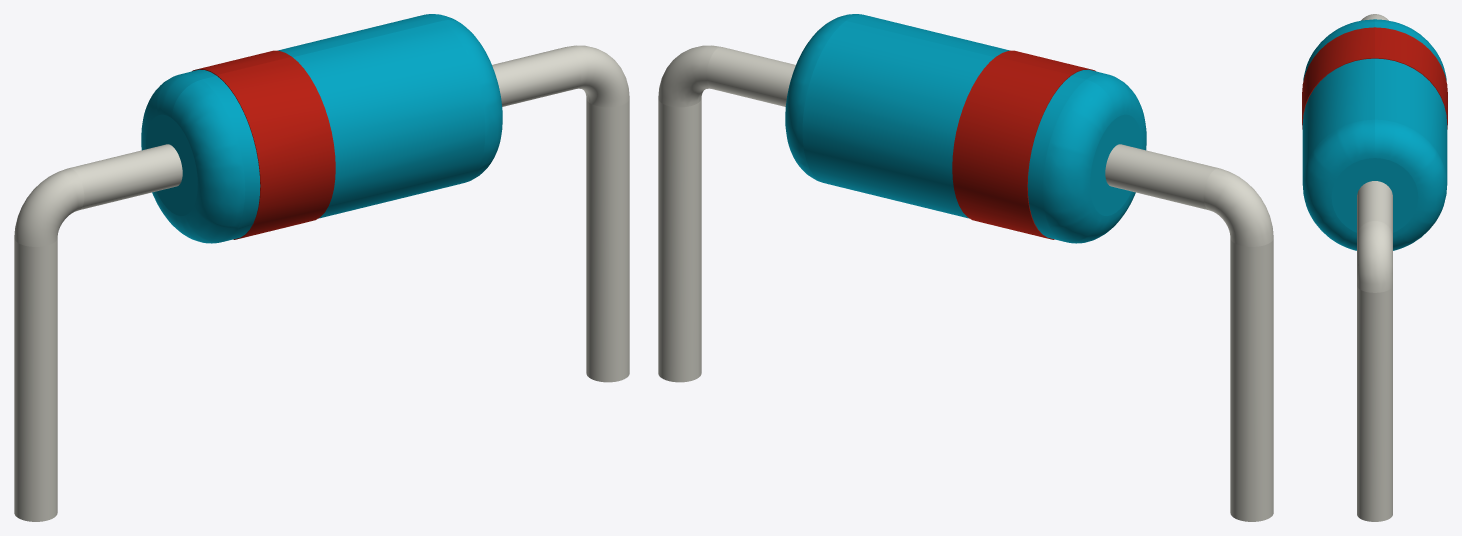
The picture shows the model from 3 angles, left to right: view 1: azimuth 30°, elevation 25°; view 2: azimuth 150°, elevation 25°; view 3: azimuth 270°, elevation 25°; orthographic projection. The views are drawn at different scales.
Parts seen in each view (by area): view 1: do35-1, do35-0; view 2: do35-1, do35-0; view 3: do35-1, do35-0.
Part boxes in pixels (x1,y1,x2,y2): do35-1: (141,14,502,243); do35-0: (14,45,629,521); do35-1: (785,14,1146,243); do35-0: (658,45,1273,521); do35-1: (1302,19,1447,250); do35-0: (1357,14,1392,521).
Bounding box in the file's own units: 0.00812 × 0.00501 × 0.00202.
